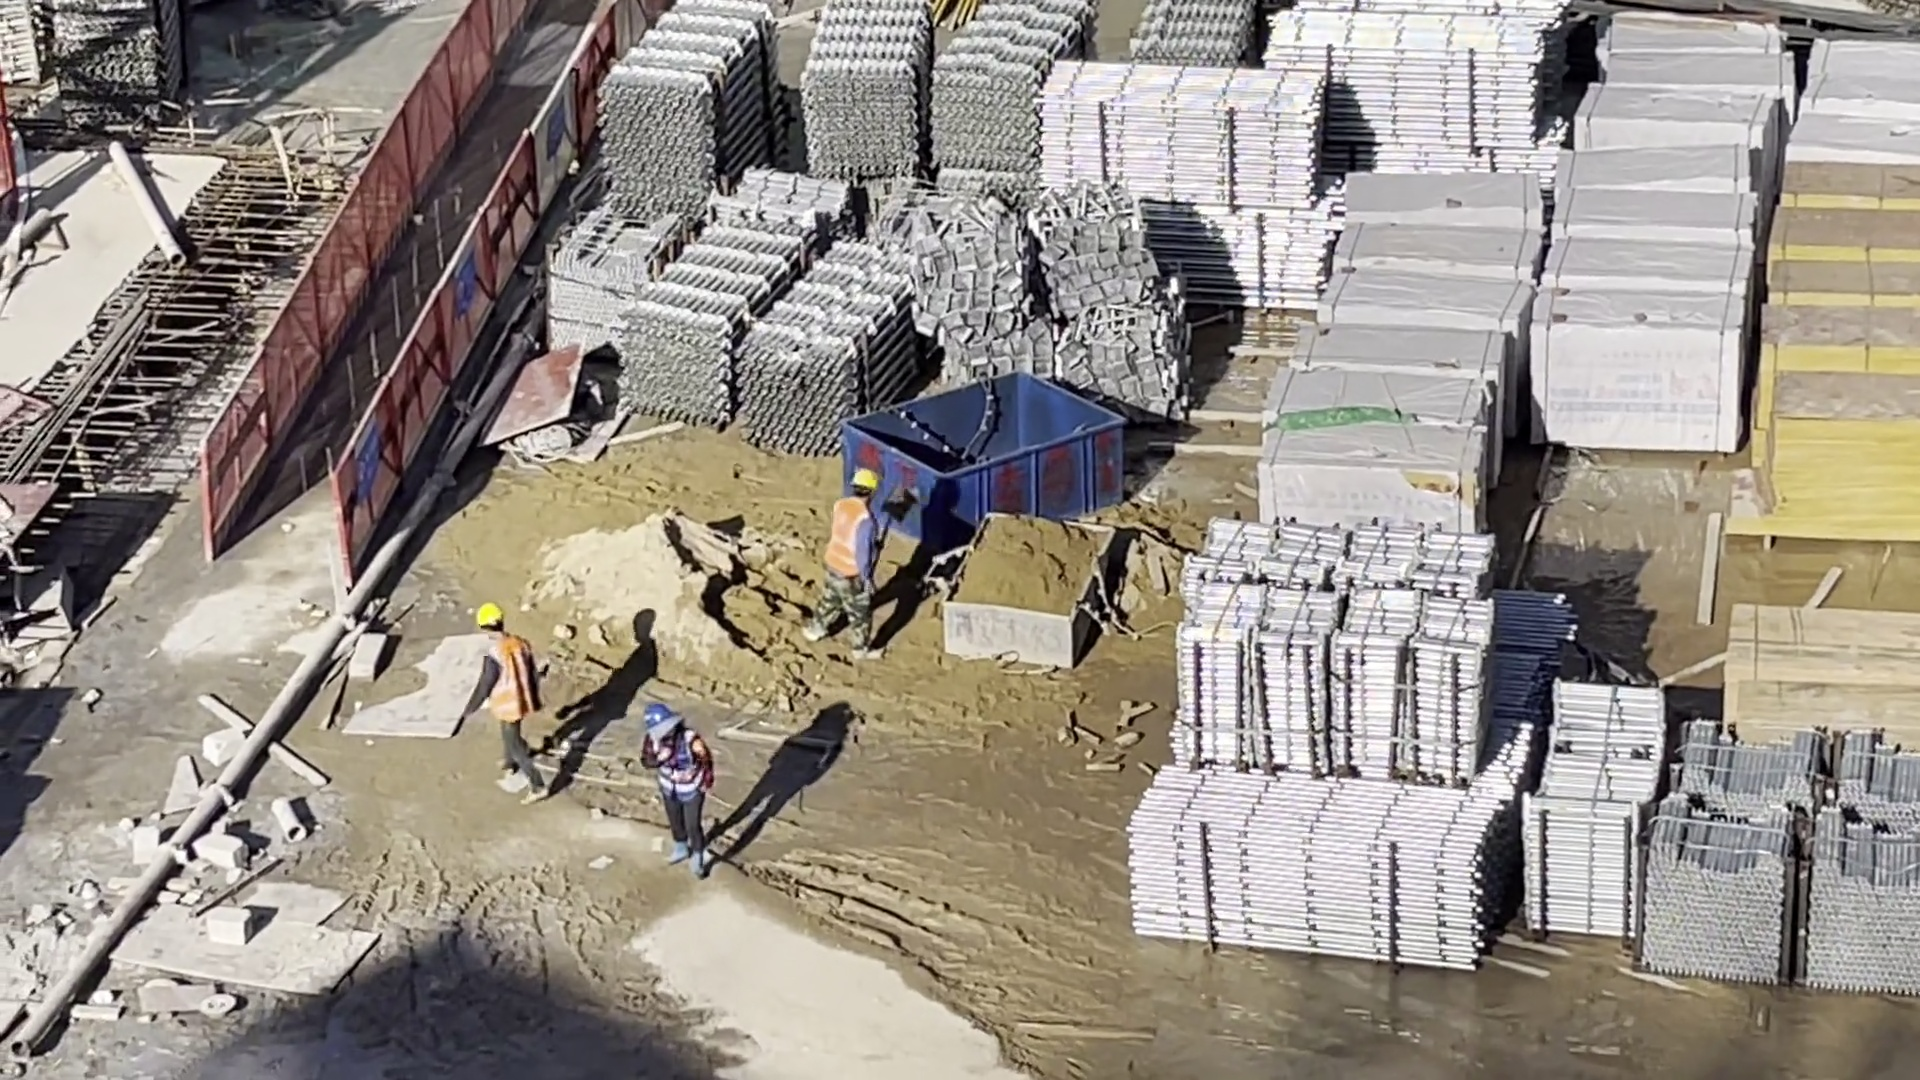board: (1758, 162, 1920, 556), (1720, 607, 1920, 730)
fence: (204, 10, 640, 531)
helmet: (850, 468, 879, 495), (478, 602, 505, 628), (642, 704, 671, 727)
hopper: (842, 369, 1125, 547), (943, 512, 1119, 673)
person: (478, 604, 546, 806), (815, 468, 883, 661), (643, 707, 717, 880)
scaffold: (1179, 530, 1498, 779), (1129, 760, 1504, 970), (1643, 727, 1917, 991), (1040, 61, 1333, 307), (635, 223, 911, 443), (1273, 4, 1573, 173), (797, 1, 1079, 170), (600, 6, 779, 210), (1531, 677, 1667, 920), (39, 1, 179, 126), (1141, 1, 1258, 65), (1, 1, 46, 93)
slogan: (450, 243, 474, 327), (355, 426, 382, 496)
vest: (490, 642, 536, 722), (828, 499, 867, 577), (656, 735, 696, 796)
